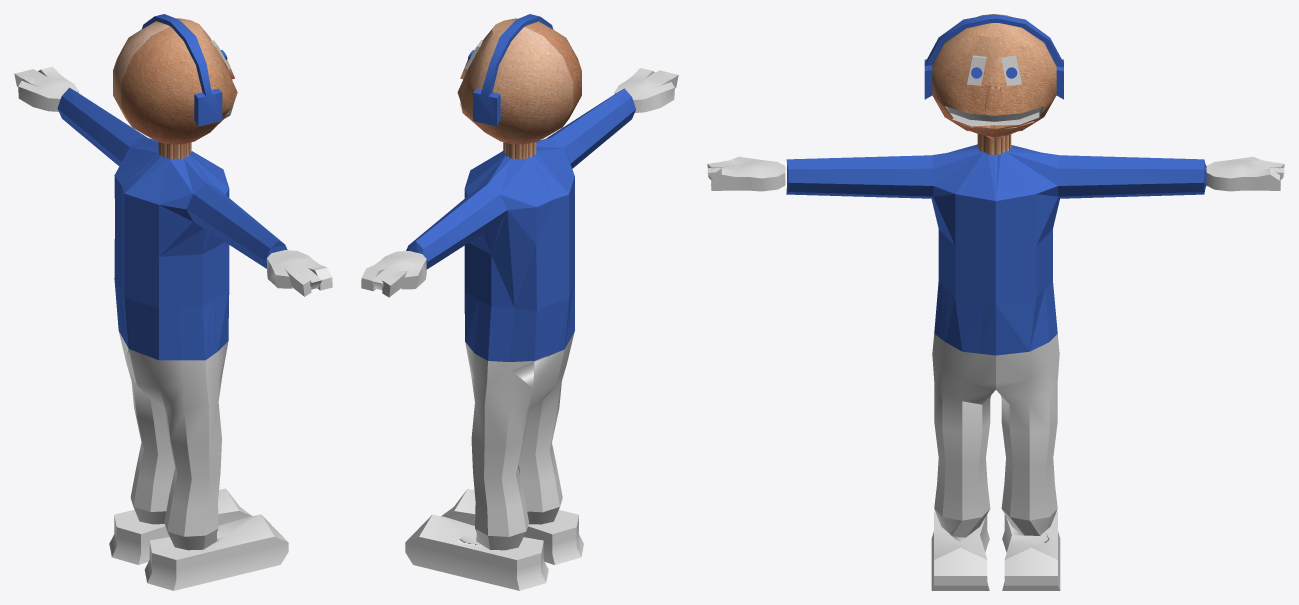
Rendered from Человек2.0 Новый.fbx.
The picture shows the model from 3 angles, left to right: view 1: azimuth 30°, elevation 25°; view 2: azimuth 150°, elevation 25°; view 3: azimuth 270°, elevation 25°; orthographic projection.
Visible parts, largest first — view 1: тело, ноги, Объект_Сфера, Обувь, Кисть; view 2: тело, ноги, Объект_Сфера, Обувь, Кисть; view 3: тело, ноги, Объект_Сфера, Обувь, Кисть.
Boxes of the visible parts, x1,y1,x2,y2 form: тело: (57,87,287,360); ноги: (118,331,228,536); Объект_Сфера: (113,14,237,159); Обувь: (109,488,288,590); Кисть: (14,66,332,296); тело: (406,88,635,361); ноги: (465,332,574,536); Объект_Сфера: (457,14,581,159); Обувь: (405,489,583,590); Кисть: (361,68,678,297); тело: (786,144,1206,355); ноги: (932,334,1059,520); Объект_Сфера: (924,14,1063,154); Обувь: (931,509,1060,590); Кисть: (707,156,1284,191).
Bounding box in the file's own units: 138 × 521 × 505.
3 materials, 1 textured.
